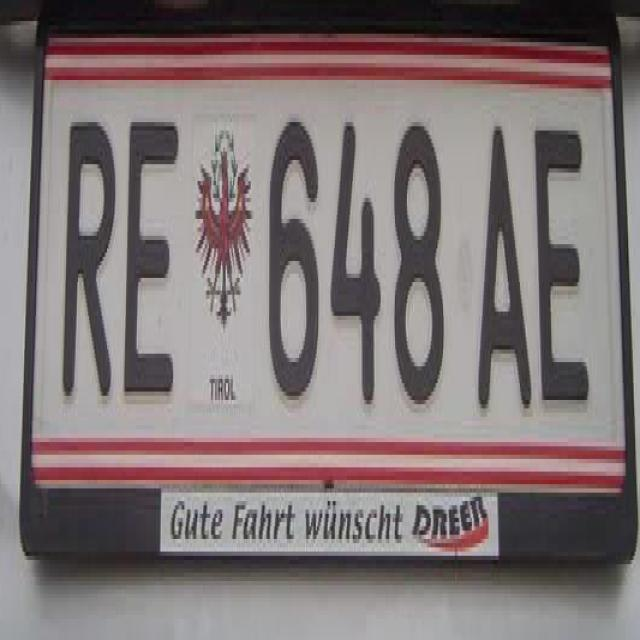Autre: (44, 49, 626, 483)
